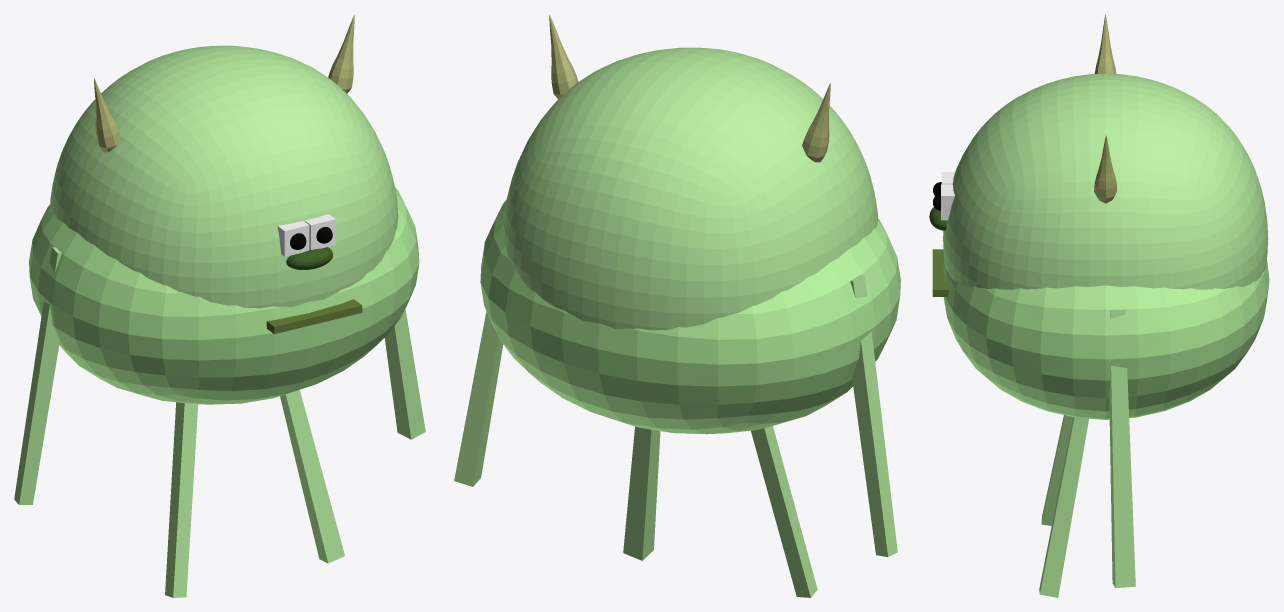
File: arzhang.dae
3 renders of one model, left to right at view 1: azimuth 30°, elevation 25°; view 2: azimuth 150°, elevation 25°; view 3: azimuth 270°, elevation 25°, orthographic. The views are drawn at different scales.
Parts seen in each view (by area): view 1: Upper_Body-S3D-30, Lower_Body-S3D-29, Body-S3D-21, Lips-S3D-22, R_Horn-S3D-28, L_Horn-S3D-20, Nose-S3D-25, L_Eye-S3D-23, R_Eye-S3D-24; view 2: Upper_Body-S3D-30, Lower_Body-S3D-29, Body-S3D-21, R_Horn-S3D-28, L_Horn-S3D-20; view 3: Upper_Body-S3D-30, Lower_Body-S3D-29, Body-S3D-21, R_Horn-S3D-28, L_Horn-S3D-20, Lips-S3D-22.
Boxes of the visible parts, x1,y1,x2,y2 form: Upper_Body-S3D-30: [50, 45, 398, 308]; Lower_Body-S3D-29: [29, 187, 419, 404]; Body-S3D-21: [14, 247, 425, 597]; Lips-S3D-22: [266, 299, 362, 334]; R_Horn-S3D-28: [328, 14, 354, 93]; L_Horn-S3D-20: [94, 78, 120, 152]; Nose-S3D-25: [286, 247, 333, 269]; L_Eye-S3D-23: [277, 221, 309, 256]; R_Eye-S3D-24: [305, 214, 335, 249]; Upper_Body-S3D-30: [503, 47, 878, 330]; Lower_Body-S3D-29: [480, 200, 900, 434]; Body-S3D-21: [454, 275, 897, 597]; R_Horn-S3D-28: [549, 14, 578, 99]; L_Horn-S3D-20: [802, 83, 830, 162]; Upper_Body-S3D-30: [943, 73, 1268, 289]; Lower_Body-S3D-29: [943, 259, 1269, 419]; Body-S3D-21: [1039, 309, 1135, 597]; R_Horn-S3D-28: [1094, 135, 1116, 203]; L_Horn-S3D-20: [1094, 14, 1116, 73]; Lips-S3D-22: [932, 249, 948, 296].
Bounding box in the file's own units: 2.3 × 2.78 × 1.76.
